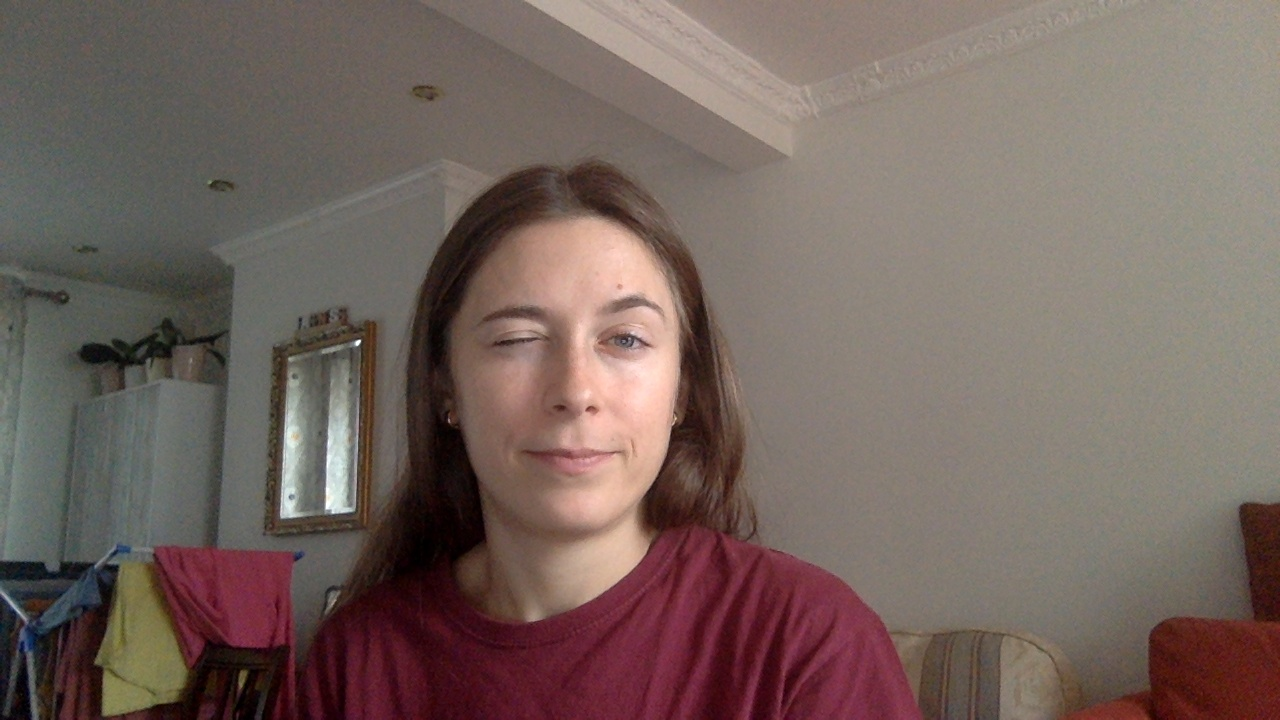wink: (492, 328, 548, 356)
